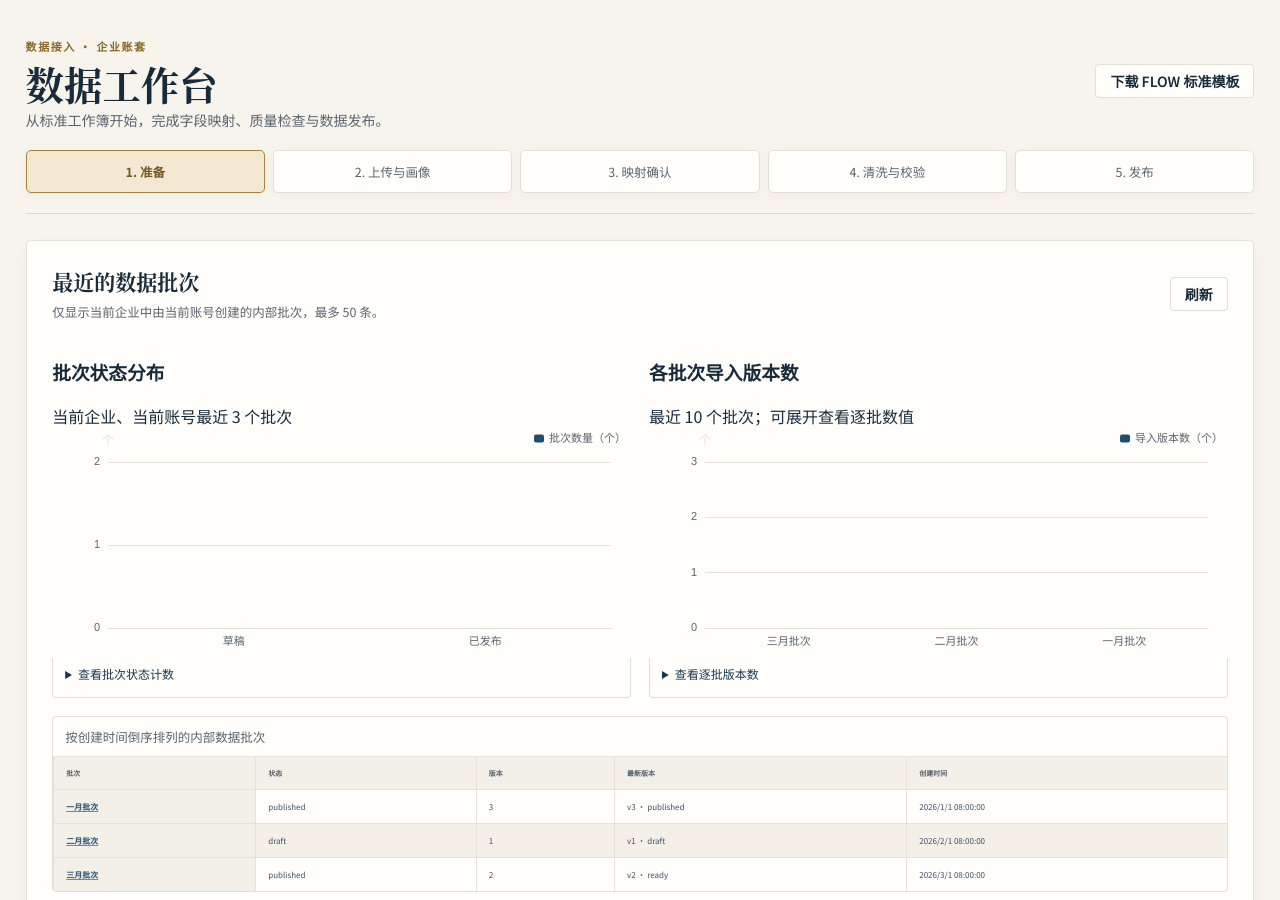
it: DataWorkbench › 为批次历史图表提供与绘图数据一致的可读明细表
The width and height of the screenshot is (1280, 900).
Click the heading "查看批次状态计数": (126, 673) [78, 664, 174, 682]
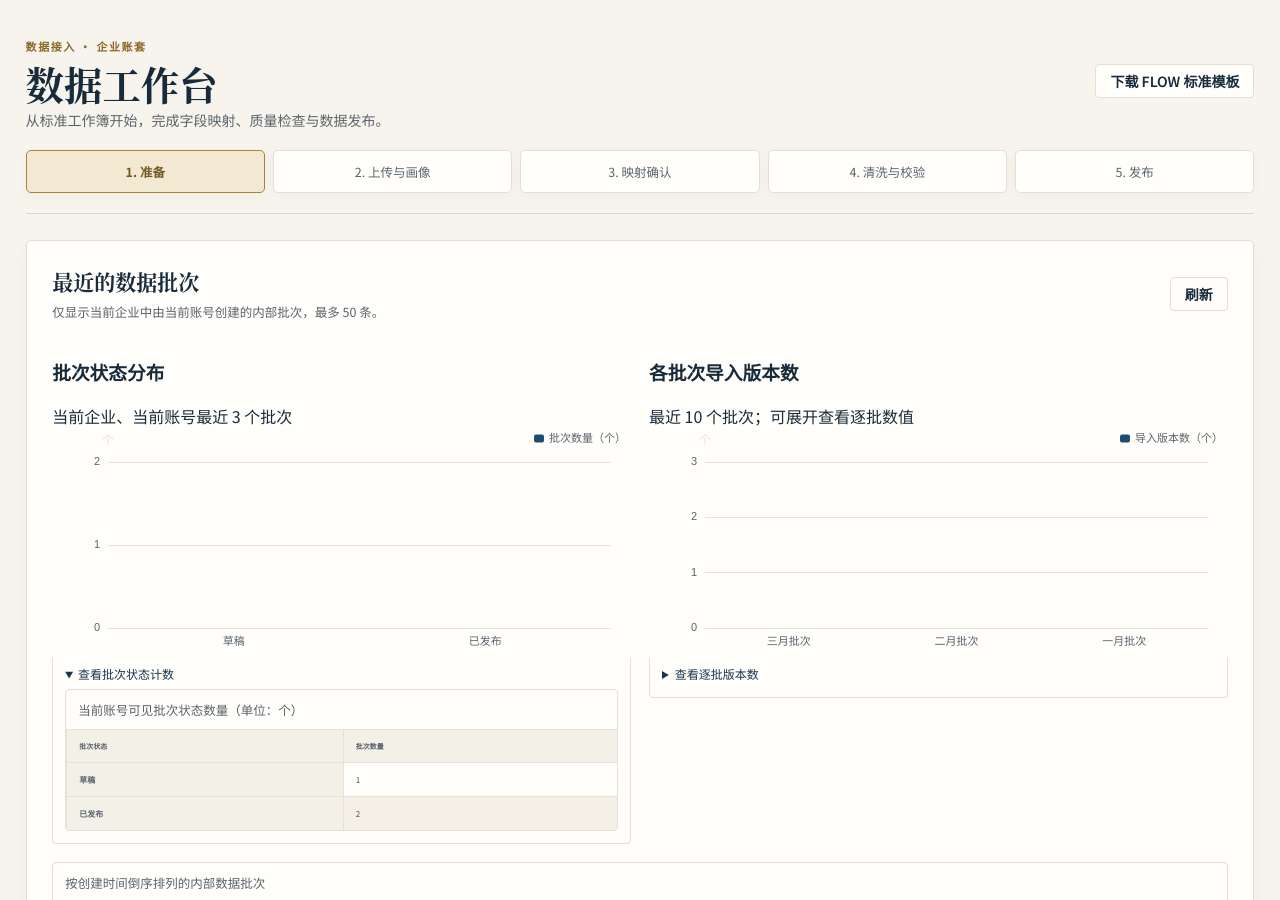
expect the column heading "已发布" is shown: met, box [67, 796, 343, 830]
expect the cell "2" is shown: met, box [343, 796, 617, 830]
expect the column heading "草稿" is shown: met, box [67, 762, 343, 796]
Click the heading "查看逐批版本数": (717, 673) [675, 664, 759, 682]
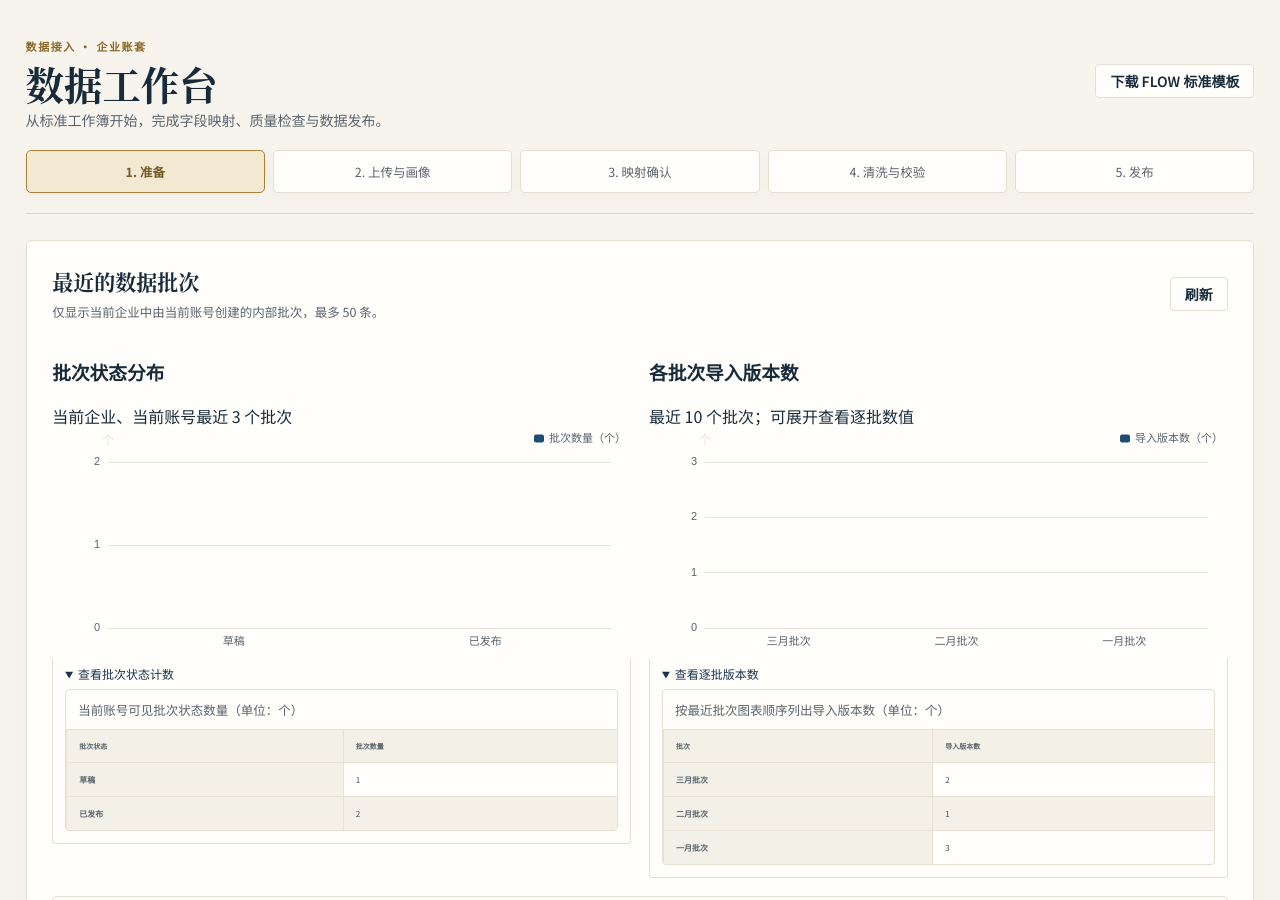
expect the column heading "一月批次" is shown: met, box [664, 830, 933, 864]
expect the cell "3" is shown: met, box [933, 830, 1214, 864]
expect the column heading "二月批次" is shown: met, box [664, 796, 933, 830]
